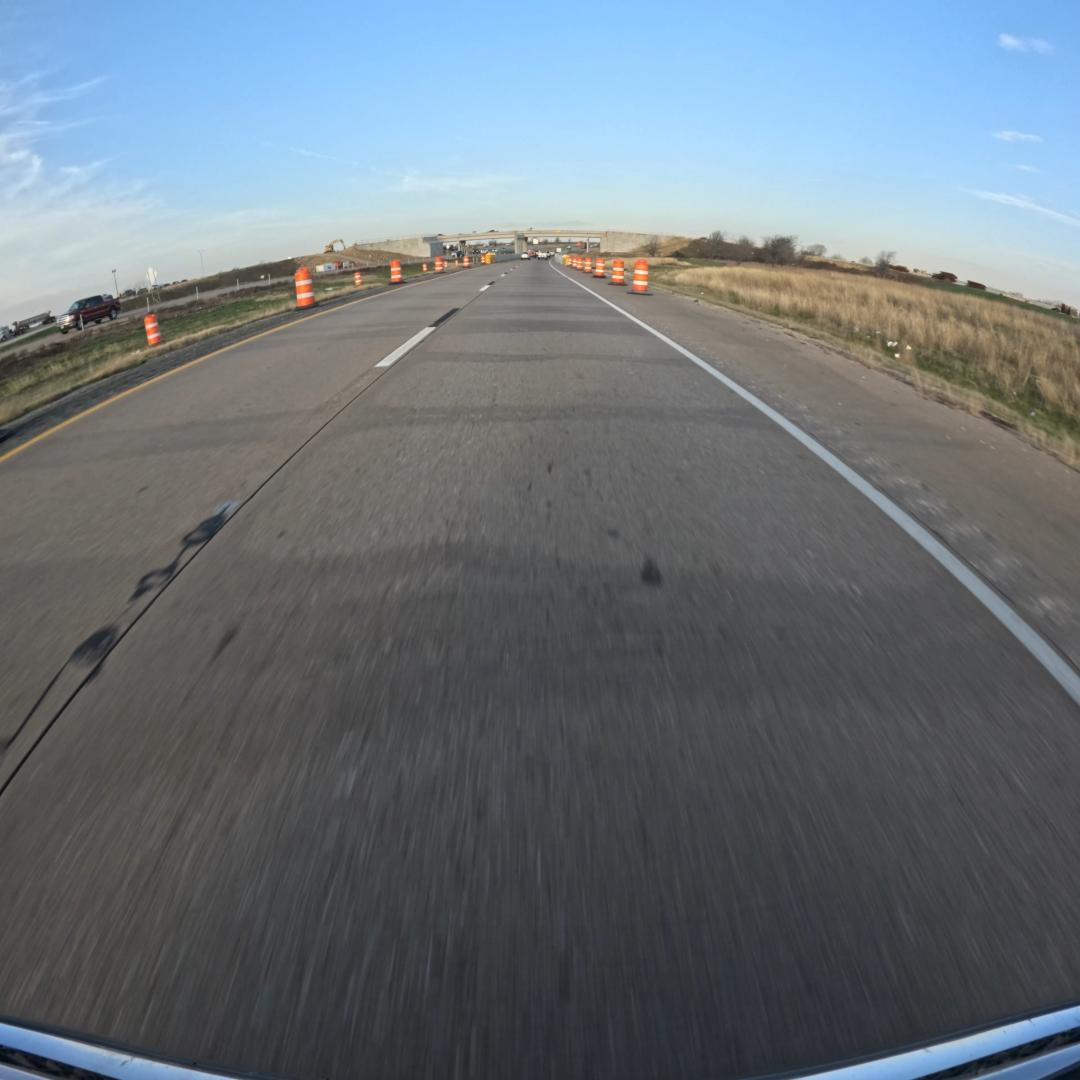lane0: (0, 266, 1080, 1080)
lane1: (0, 262, 518, 792)
